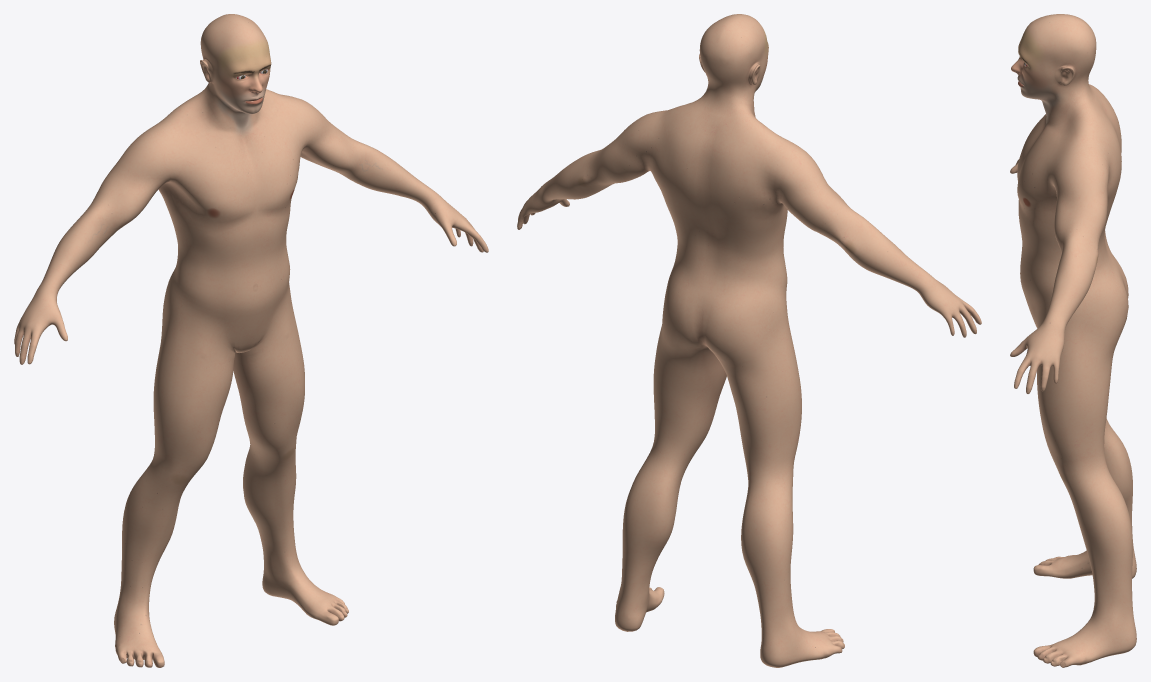
3 renders of one model, left to right at view 1: azimuth 30°, elevation 25°; view 2: azimuth 150°, elevation 25°; view 3: azimuth 270°, elevation 25°, orthographic. The views are drawn at different scales.
Visible parts, largest first — view 1: Oskar_LoRes; view 2: Oskar_LoRes; view 3: Oskar_LoRes.
Boxes of the visible parts, x1,y1,x2,y2 form: Oskar_LoRes: (14,14,488,667); Oskar_LoRes: (517,14,981,667); Oskar_LoRes: (1010,14,1136,667).
Bounding box in the file's own units: 114 × 146 × 27.96.
2 materials, 2 textured.
